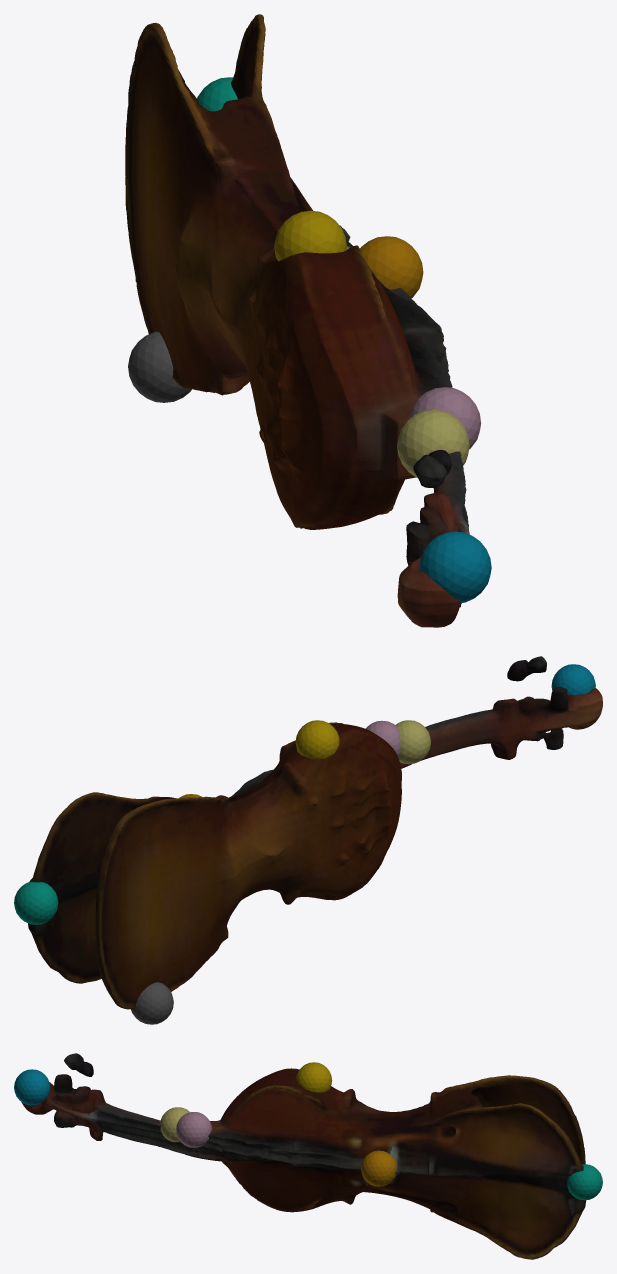
Rendered from trellis_oa_marked_anchors.glb.
3 renders of one model, top to bottom at view 1: azimuth 30°, elevation 25°; view 2: azimuth 150°, elevation 25°; view 3: azimuth 270°, elevation 25°, orthographic. The views are drawn at different scales.
Visible parts, largest first — view 1: world, anchor_01_rgb_000_050_078, anchor_06_rgb_106_100_029, anchor_07_rgb_022_022_022, anchor_05_rgb_101_070_000, anchor_00_rgb_094_041_000, anchor_03_rgb_090_053_073, anchor_02_rgb_000_070_051; view 2: world, anchor_02_rgb_000_070_051, anchor_05_rgb_101_070_000, anchor_07_rgb_022_022_022, anchor_06_rgb_106_100_029, anchor_01_rgb_000_050_078, anchor_03_rgb_090_053_073; view 3: world, anchor_01_rgb_000_050_078, anchor_00_rgb_094_041_000, anchor_03_rgb_090_053_073, anchor_02_rgb_000_070_051, anchor_05_rgb_101_070_000, anchor_06_rgb_106_100_029.
Boxes of the visible parts, x1=… form: world: x1=125, y1=14, x2=469, y2=627; anchor_01_rgb_000_050_078: x1=419, y1=531, x2=491, y2=602; anchor_06_rgb_106_100_029: x1=397, y1=409, x2=469, y2=477; anchor_07_rgb_022_022_022: x1=128, y1=331, x2=191, y2=402; anchor_05_rgb_101_070_000: x1=274, y1=210, x2=346, y2=261; anchor_00_rgb_094_041_000: x1=359, y1=236, x2=423, y2=298; anchor_03_rgb_090_053_073: x1=409, y1=387, x2=481, y2=449; anchor_02_rgb_000_070_051: x1=197, y1=77, x2=237, y2=111; world: x1=28, y1=656, x2=602, y2=1009; anchor_02_rgb_000_070_051: x1=14, y1=882, x2=58, y2=924; anchor_05_rgb_101_070_000: x1=295, y1=720, x2=339, y2=759; anchor_07_rgb_022_022_022: x1=131, y1=982, x2=173, y2=1024; anchor_06_rgb_106_100_029: x1=395, y1=720, x2=430, y2=764; anchor_01_rgb_000_050_078: x1=551, y1=664, x2=595, y2=694; anchor_03_rgb_090_053_073: x1=365, y1=720, x2=400, y2=756; world: x1=21, y1=1053, x2=586, y2=1259; anchor_01_rgb_000_050_078: x1=14, y1=1069, x2=50, y2=1105; anchor_00_rgb_094_041_000: x1=361, y1=1150, x2=396, y2=1186; anchor_03_rgb_090_053_073: x1=176, y1=1112, x2=211, y2=1147; anchor_02_rgb_000_070_051: x1=567, y1=1164, x2=602, y2=1200; anchor_05_rgb_101_070_000: x1=296, y1=1062, x2=332, y2=1092; anchor_06_rgb_106_100_029: x1=160, y1=1107, x2=189, y2=1142.
Size of the model in its own units: 0.3994 by 0.3362 by 0.9982.
